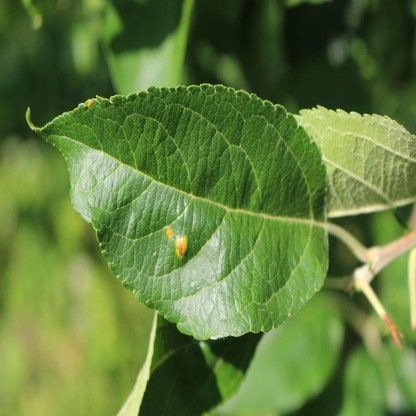rust: (175, 234, 187, 258), (164, 227, 171, 237)
